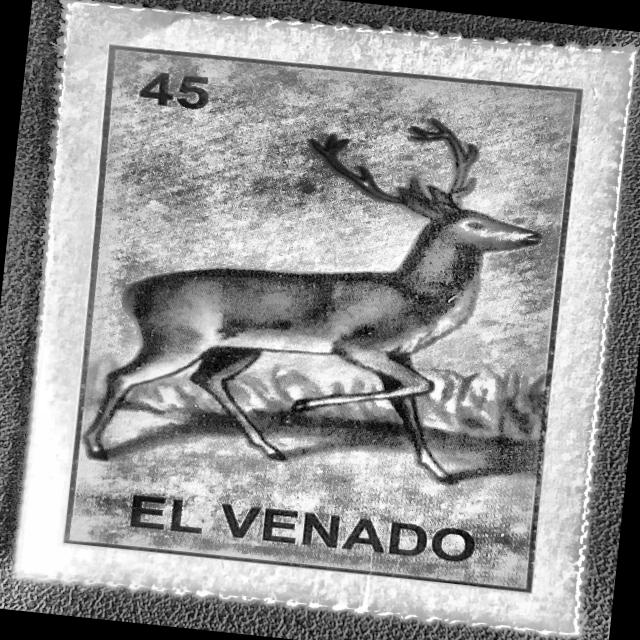El Venado: (19, 17, 618, 617)
